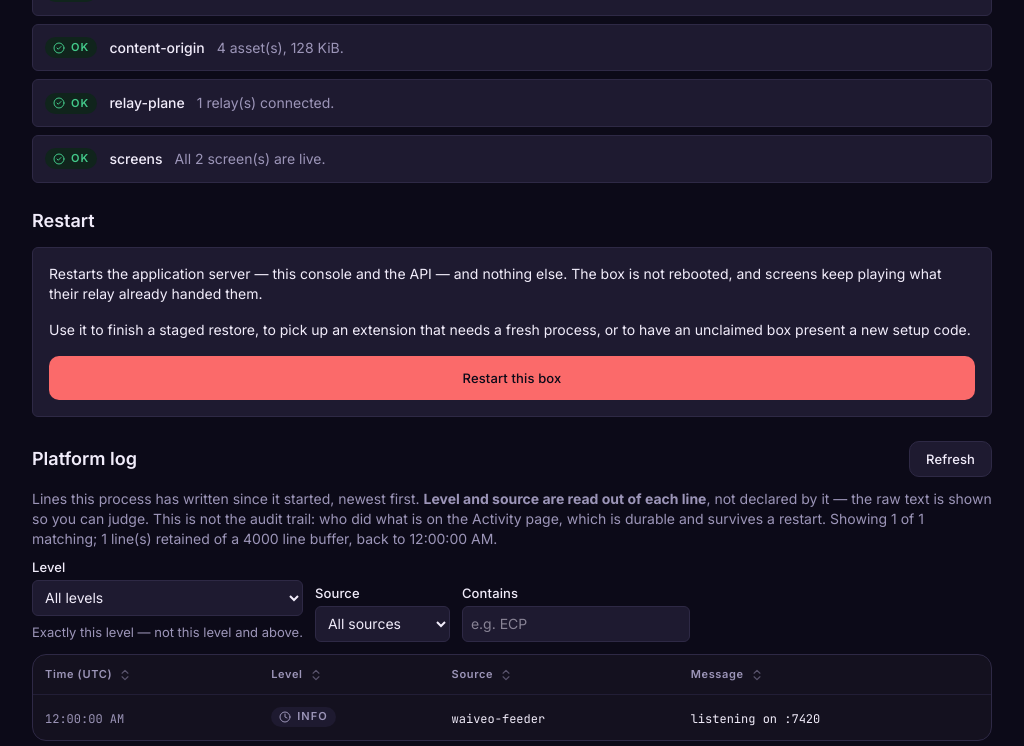
Test: SystemRoute — restart › reports BACK UP only once a DIFFERENT process instance answers
The image size is (1024, 746).
(page scrolled)
Click the button "Restart this box".
click(512, 378)  # box [49,356,975,400]
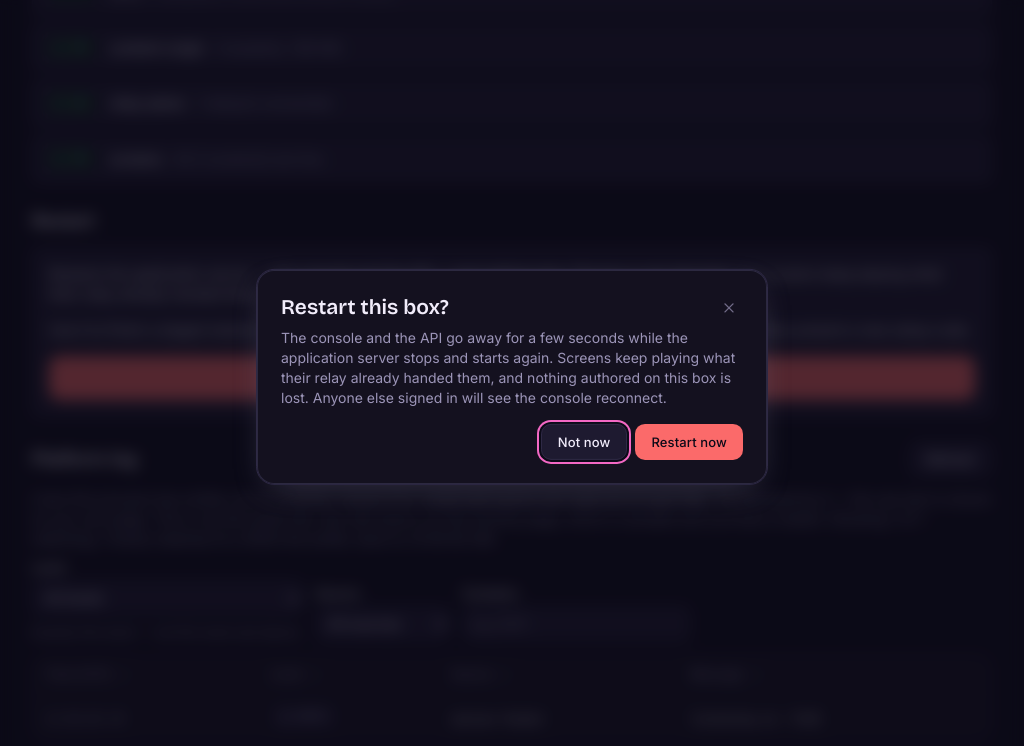
Click the button "Restart now".
click(689, 442)  # box [635,424,743,460]
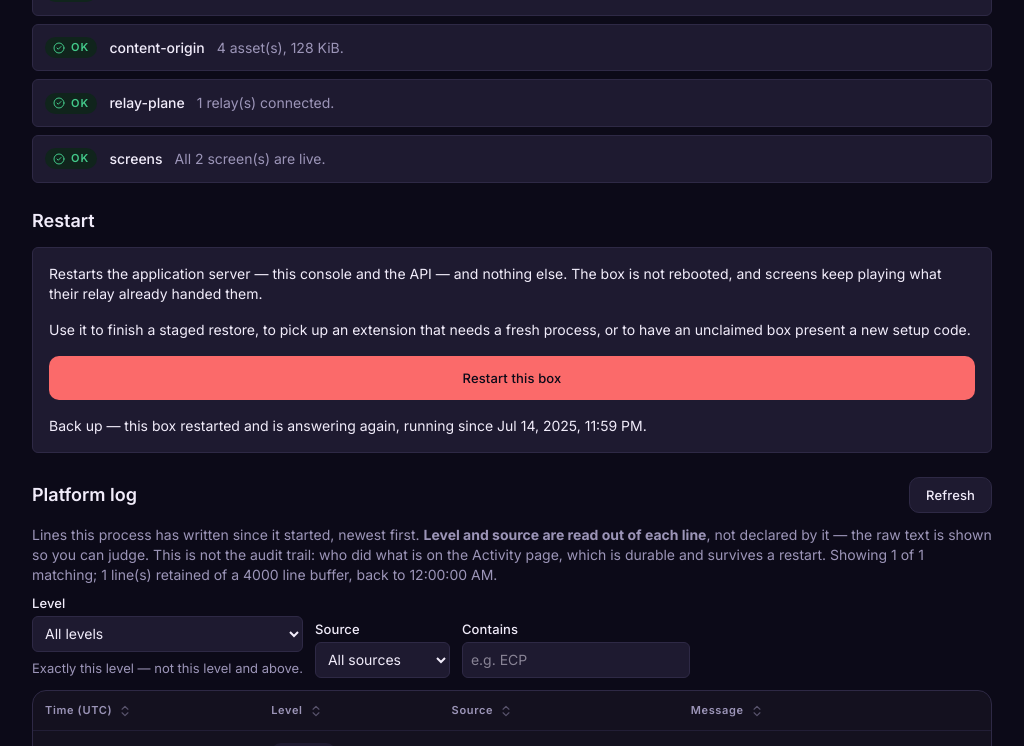
Result: the text "restarted and is answering again" is shown at [49,417,647,434]
